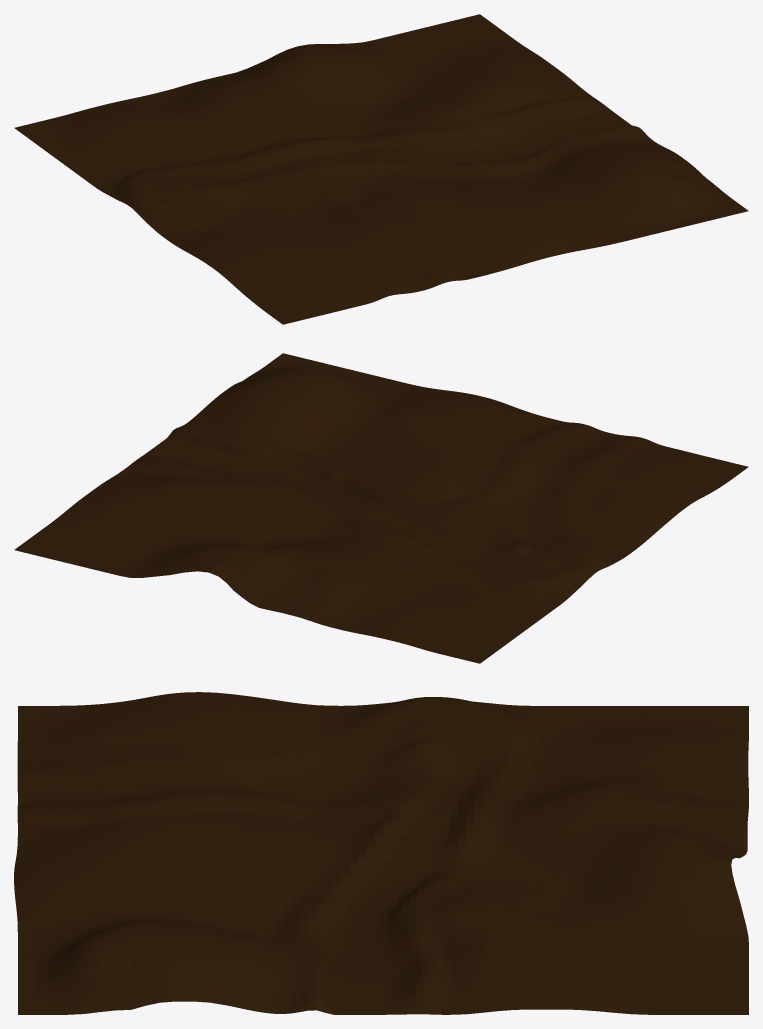
Rendered from meshq.obj.
3 views of the same model, one above another, from view 1: azimuth 30°, elevation 25°; view 2: azimuth 150°, elevation 25°; view 3: azimuth 270°, elevation 25° (orthographic). The views are drawn at different scales.
Parts seen in each view (by area): view 1: Plane; view 2: Plane; view 3: Plane.
Boxes of the visible parts, x1,y1,x2,y2 form: Plane: (14,14,748,324); Plane: (14,353,748,663); Plane: (14,692,748,1014).
Bounding box in the file's own units: 101 × 5.85 × 101.
